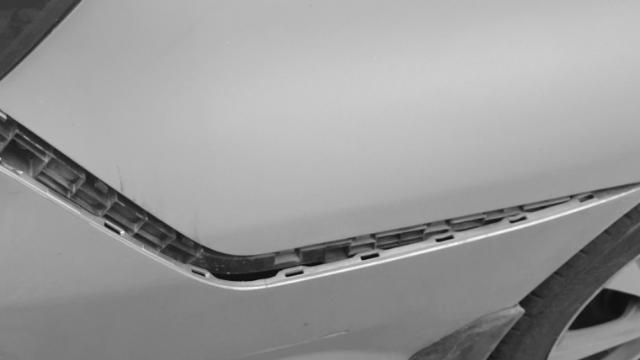Fender: (1, 83, 632, 360)
